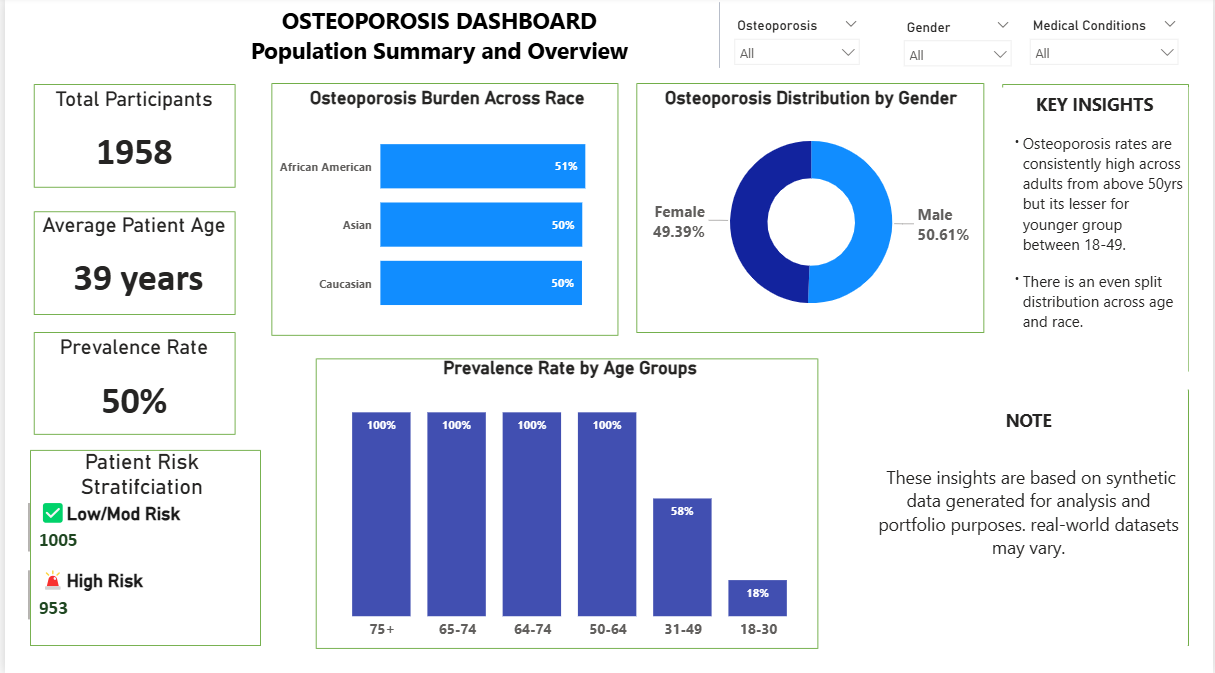

Layout of this report page (visuals, bound fields, positions):
{"tool":"powerbi","page":{"name":"Population Overview","canvas":[1280,720],"ordinal":0},"visuals":[{"type":"card","title":"Total Participants","fields":{"Values":["osteoporosis.Total Participants"]},"box":[32.1,96.4,209.8,105.8],"z":0},{"type":"card","title":"Average Patient Age","fields":{"Values":["osteoporosis.AVG Patient age"]},"box":[32.1,230.6,209.8,105.8],"z":1000},{"type":"card","title":"Prevalence Rate","fields":{"Values":["osteoporosis.Prevalence Rate"]},"box":[32.1,359.1,209.8,107.7],"z":2000},{"type":"multiRowCard","title":"Patient Risk Stratifciation","fields":{"Values":["osteoporosis.Total Participants","osteoporosis.High Risk Flag"]},"box":[19.1,480.4,252.9,211.6],"z":3000},{"type":"donutChart","title":"Osteoporosis Distribution  by Gender","fields":{"Y":["osteoporosis.Prevalence Rate"],"Category":["osteoporosis.Gender"]},"box":[670.9,96.4,366.6,262.7],"z":4000},{"type":"clusteredColumnChart","title":"Prevalence Rate by Age Groups","fields":{"Y":["osteoporosis.Prevalence Rate"],"Category":["osteoporosis.Age Bucket"]},"box":[330.7,383.6,536.7,308],"z":5000},{"type":"clusteredBarChart","title":"Osteoporosis Burden Across Race","fields":{"Category":["osteoporosis.Race/Ethnicity"],"Y":["osteoporosis.Prevalence Rate"]},"box":[285.4,96.4,368.5,262.7],"z":6000},{"type":"slicer","fields":{"Values":["osteoporosis.Osteoporosis"]},"box":[763.5,17.5,152.7,58.9],"z":7000},{"type":"slicer","fields":{"Values":["osteoporosis.Gender"]},"box":[943,18.9,134.2,62.4],"z":8000},{"type":"slicer","fields":{"Values":["osteoporosis.Medical Conditions"]},"box":[1077.2,17,177.6,60.5],"z":9000},{"type":"textbox","box":[1056.4,96.4,198.4,302.4],"z":10000},{"type":"textbox","box":[916.5,413.9,338.3,277.8],"z":11000},{"type":"textbox","box":[164.4,3.8,593.4,73.7],"z":12000}]}

Visuals, with their boxes in screenshot pixels (x1, y1, x2, y2), scaled from the page's 1280x720 canvas onto the 1215x673 screenshot:
"Total Participants" card: Rect(30, 90, 230, 189)
"Average Patient Age" card: Rect(30, 216, 230, 314)
"Prevalence Rate" card: Rect(30, 336, 230, 436)
"Patient Risk Stratifciation" multiRowCard: Rect(18, 449, 258, 647)
"Osteoporosis Distribution  by Gender" donutChart: Rect(637, 90, 985, 336)
"Prevalence Rate by Age Groups" clusteredColumnChart: Rect(314, 359, 823, 646)
"Osteoporosis Burden Across Race" clusteredBarChart: Rect(271, 90, 621, 336)
slicer - osteoporosis.Osteoporosis: Rect(725, 16, 870, 71)
slicer - osteoporosis.Gender: Rect(895, 18, 1022, 76)
slicer - osteoporosis.Medical Conditions: Rect(1022, 16, 1191, 72)
textbox: Rect(1003, 90, 1191, 373)
textbox: Rect(870, 387, 1191, 647)
textbox: Rect(156, 4, 719, 72)
